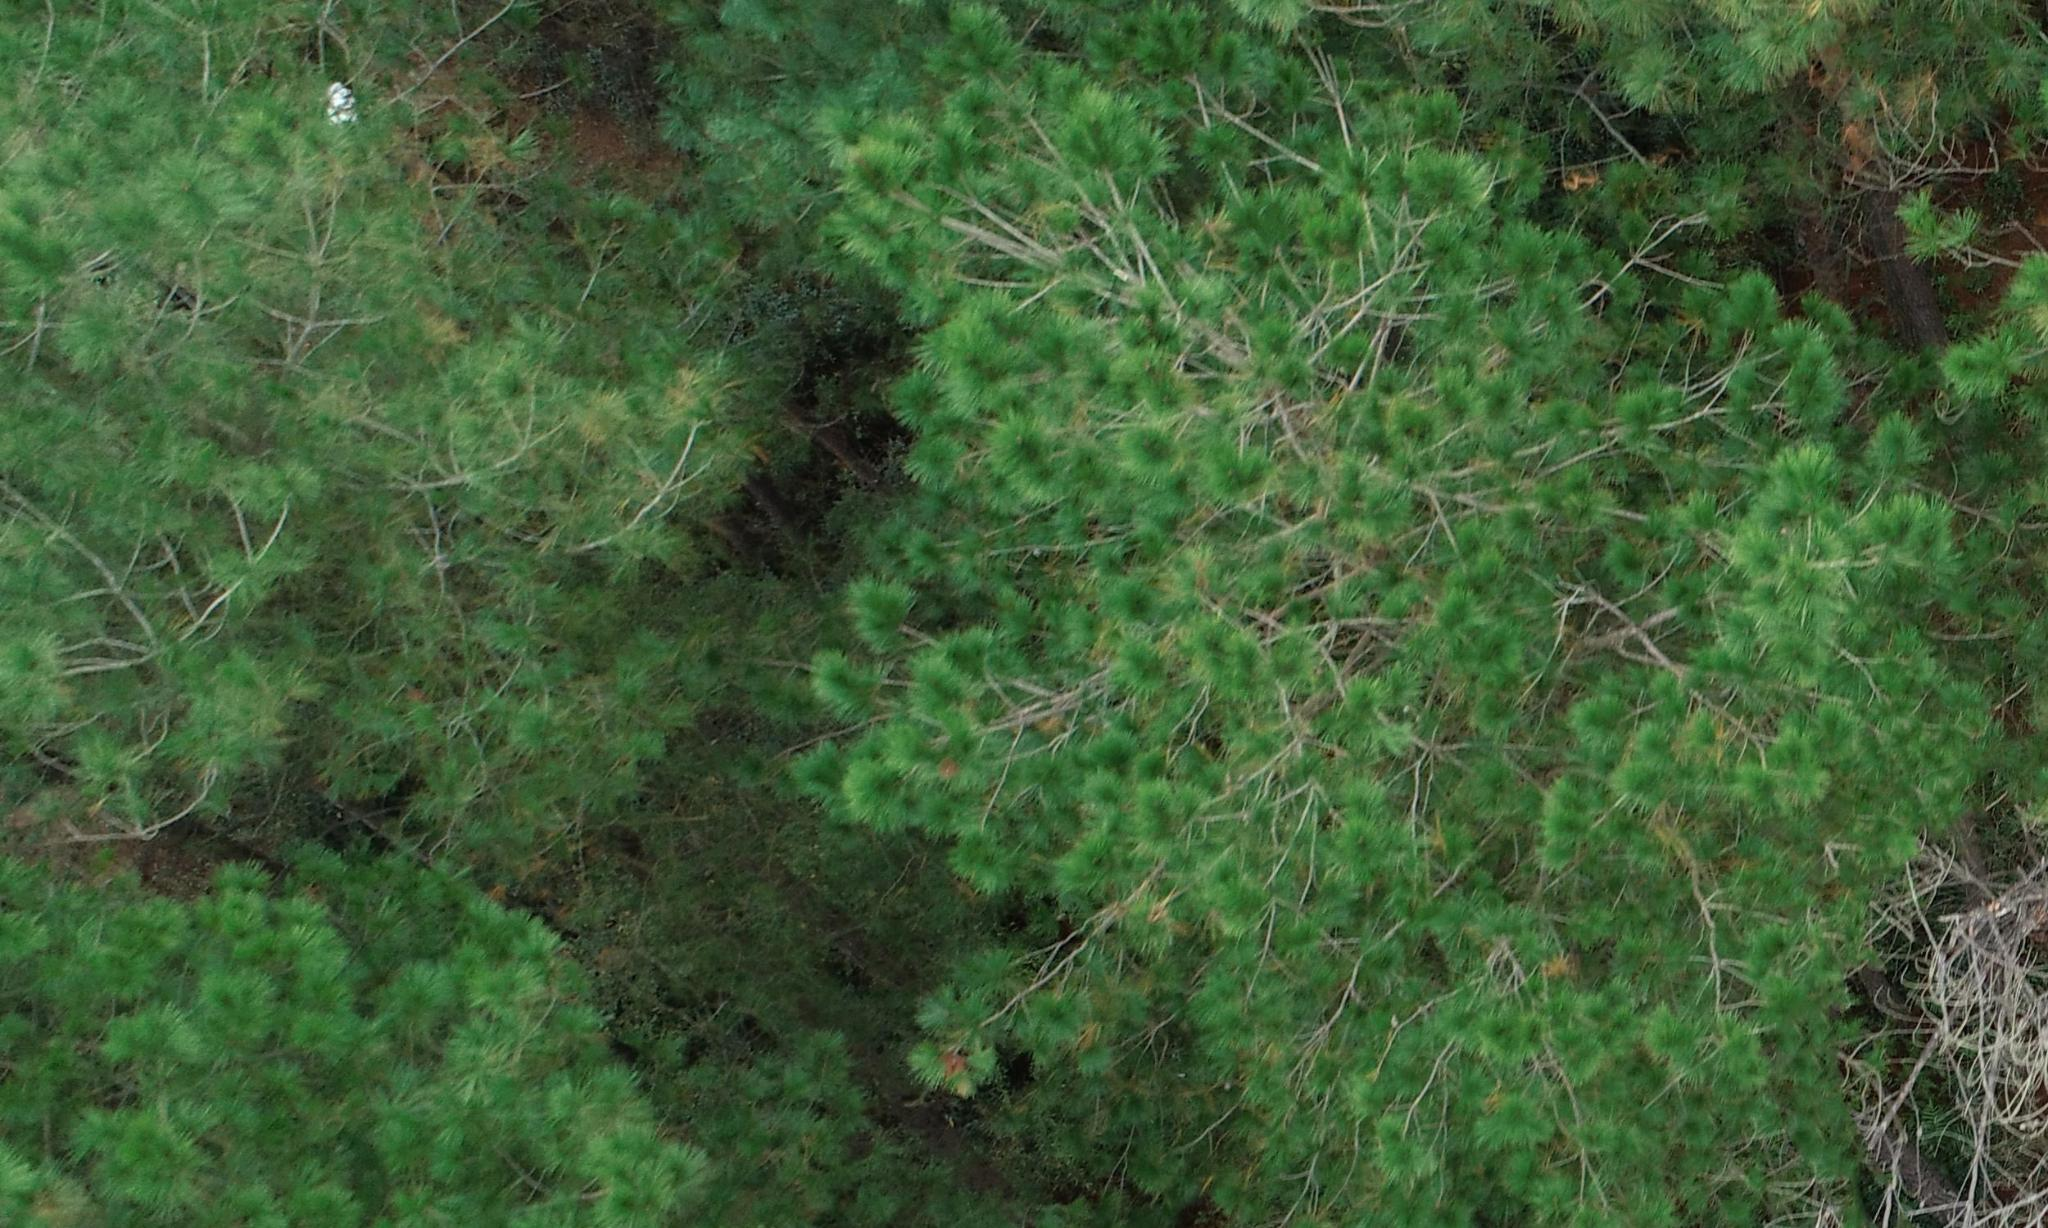dead: (1852, 827, 2048, 1228)
